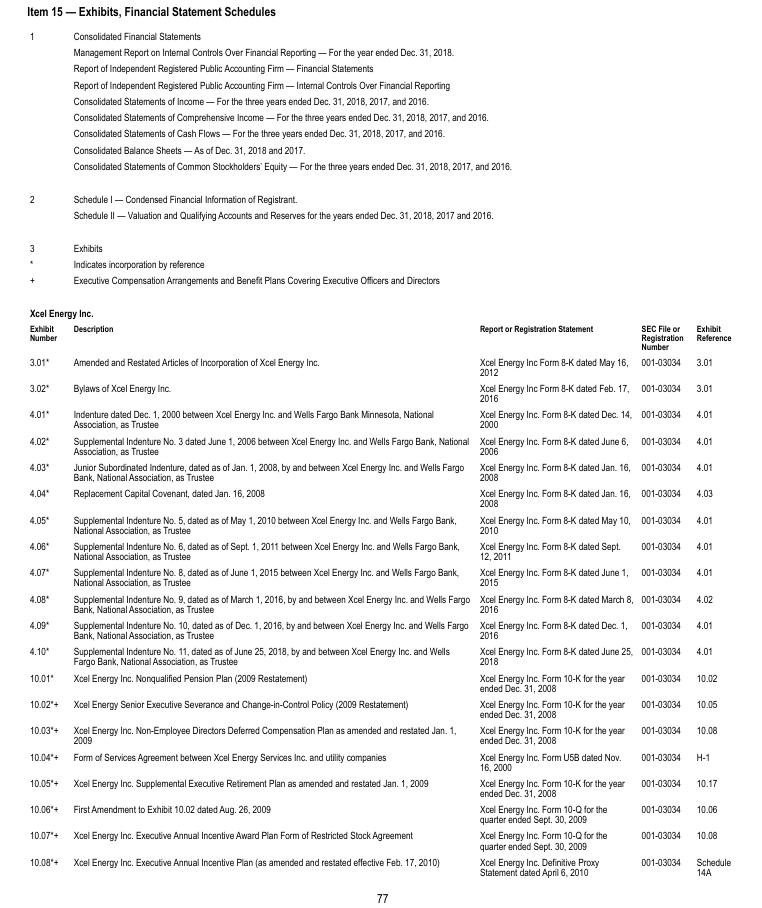table: (28, 29, 730, 876)
table column: (65, 29, 473, 876), (473, 29, 636, 876), (636, 29, 689, 876), (689, 29, 730, 876), (28, 29, 65, 876)
table column header: (28, 29, 730, 295)
table projected row header: (28, 295, 730, 320)
table row: (28, 29, 730, 295), (28, 320, 730, 352), (28, 352, 730, 379), (28, 431, 730, 458), (28, 510, 730, 537), (28, 589, 730, 616), (28, 668, 730, 695), (28, 747, 730, 774), (28, 826, 730, 853), (28, 379, 730, 405), (28, 405, 730, 431), (28, 458, 730, 484), (28, 484, 730, 510), (28, 537, 730, 563), (28, 563, 730, 589), (28, 616, 730, 642), (28, 642, 730, 668), (28, 695, 730, 721), (28, 721, 730, 747), (28, 774, 730, 800), (28, 800, 730, 826), (28, 295, 730, 320), (28, 853, 730, 876)
table spanning cell: (65, 29, 730, 295)
